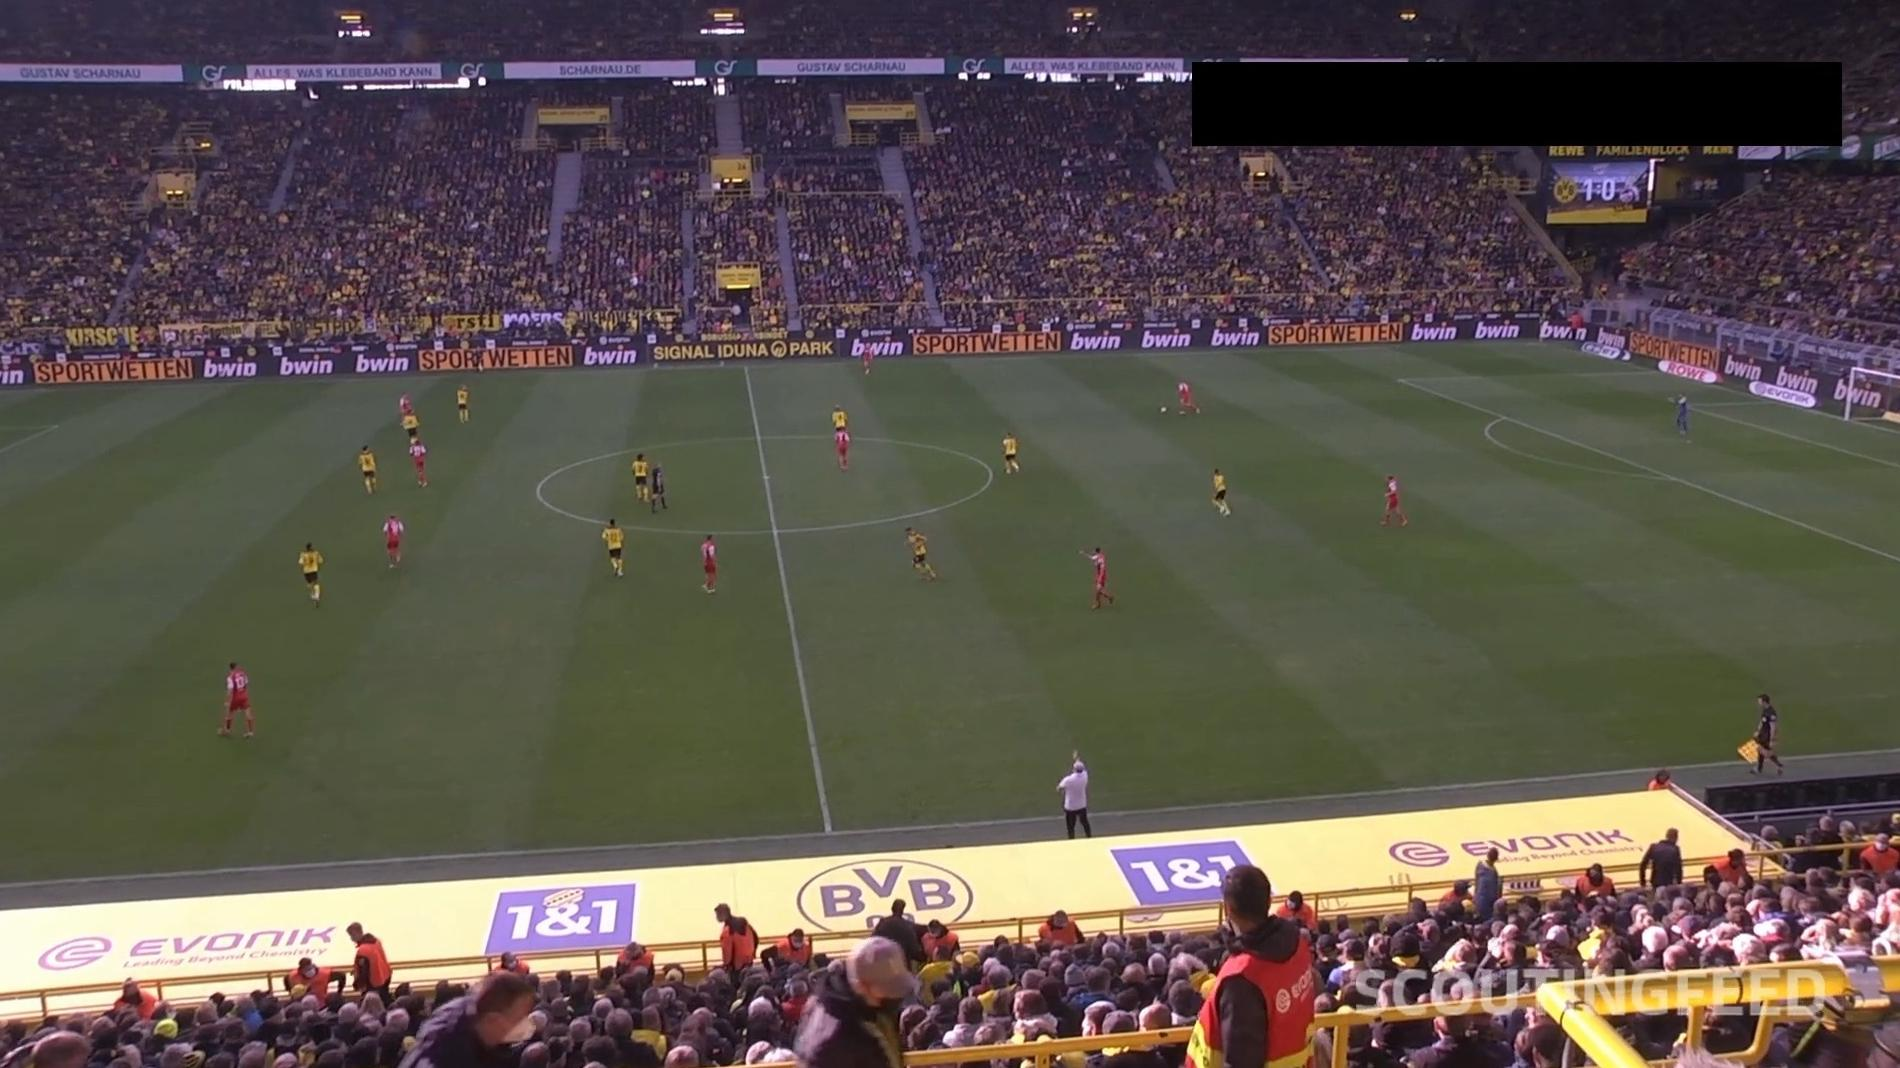ball: (1159, 405, 1168, 414)
